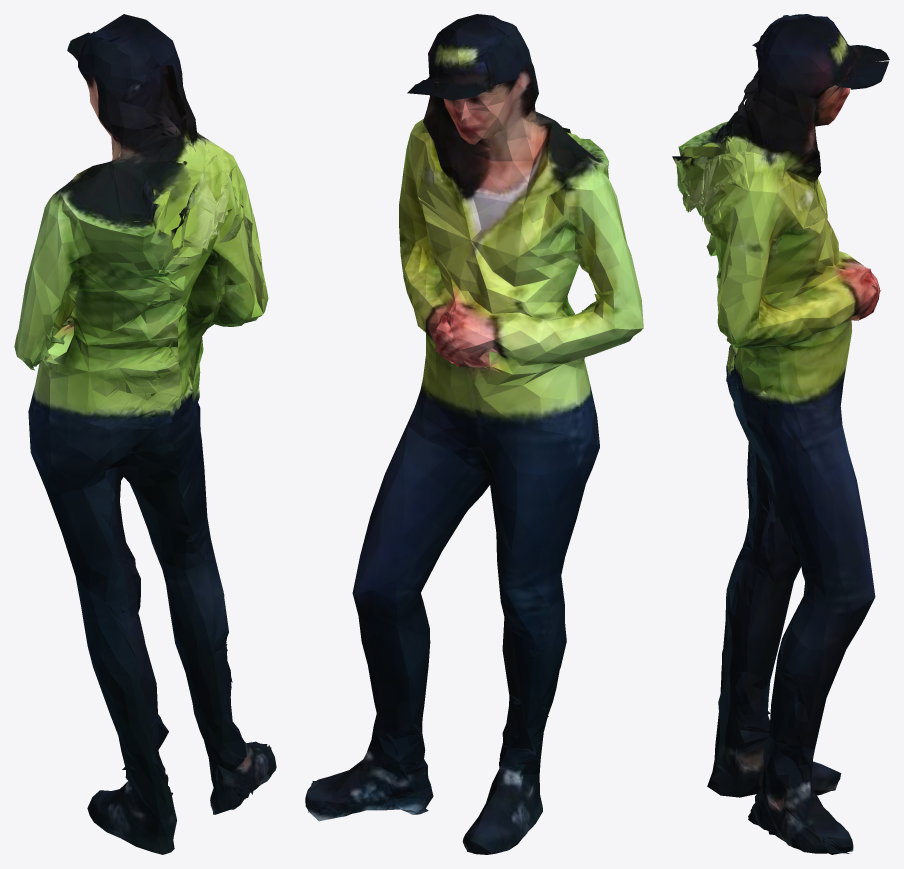
The picture shows the model from 3 angles, left to right: view 1: azimuth 30°, elevation 25°; view 2: azimuth 150°, elevation 25°; view 3: azimuth 270°, elevation 25°; orthographic projection. The views are drawn at different scales.
Parts seen in each view (by area): view 1: dec_0005; view 2: dec_0005; view 3: dec_0005.
Boxes of the visible parts, box(x1,y1,x2,y2) form: dec_0005: box(14, 14, 276, 854); dec_0005: box(305, 14, 643, 854); dec_0005: box(672, 14, 889, 854).
Bounding box in the file's own units: 0.6745 × 1.77 × 0.4488.
1 material, 1 textured.
